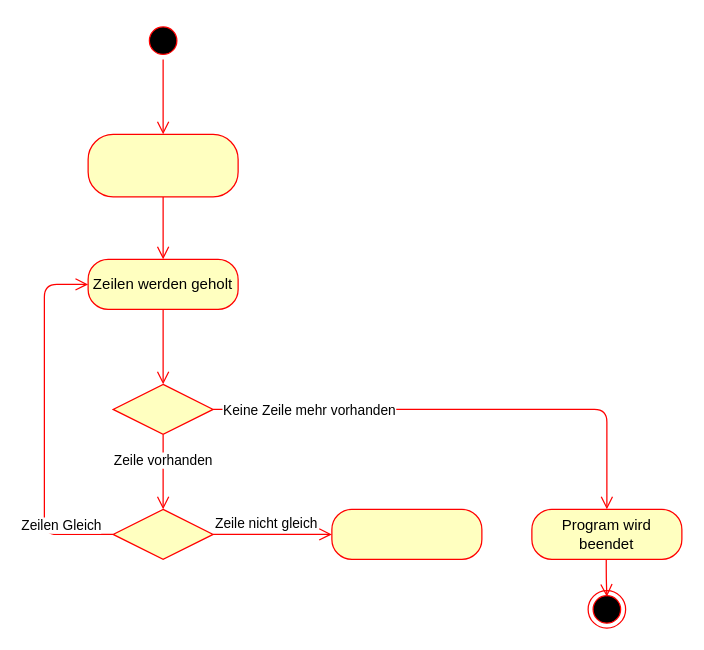
This 704x650 diagram has some shape labels left out. Here are the shapes that lost their labels. From the top down, the centre of each, then its label:
At point (162, 165): "Befehl eingeben mit zwei Parameter".
At point (406, 533): "Ungleichheit wird ausgegeben".
